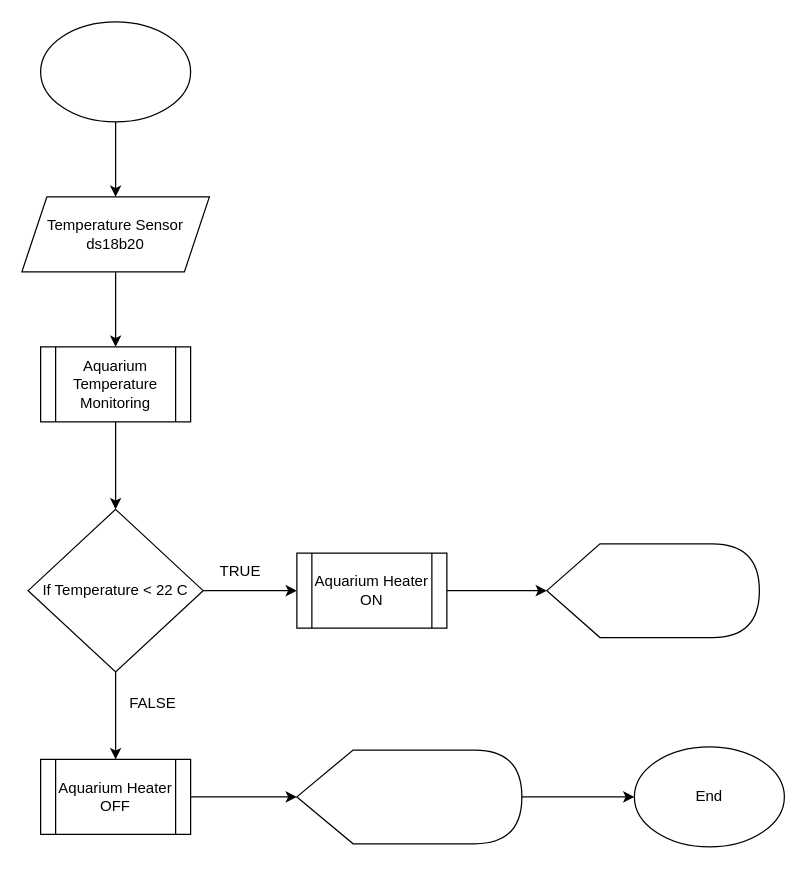
This 806x869 diagram has some shape labels left out. Each missing label, with the centre of its shape:
Display current temperature: point 409,796
Display temperature with heater ON: point 652,590
Start: point 115,71
